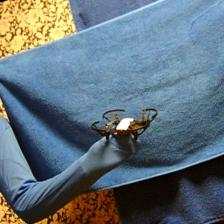drone: (89, 106, 159, 142)
